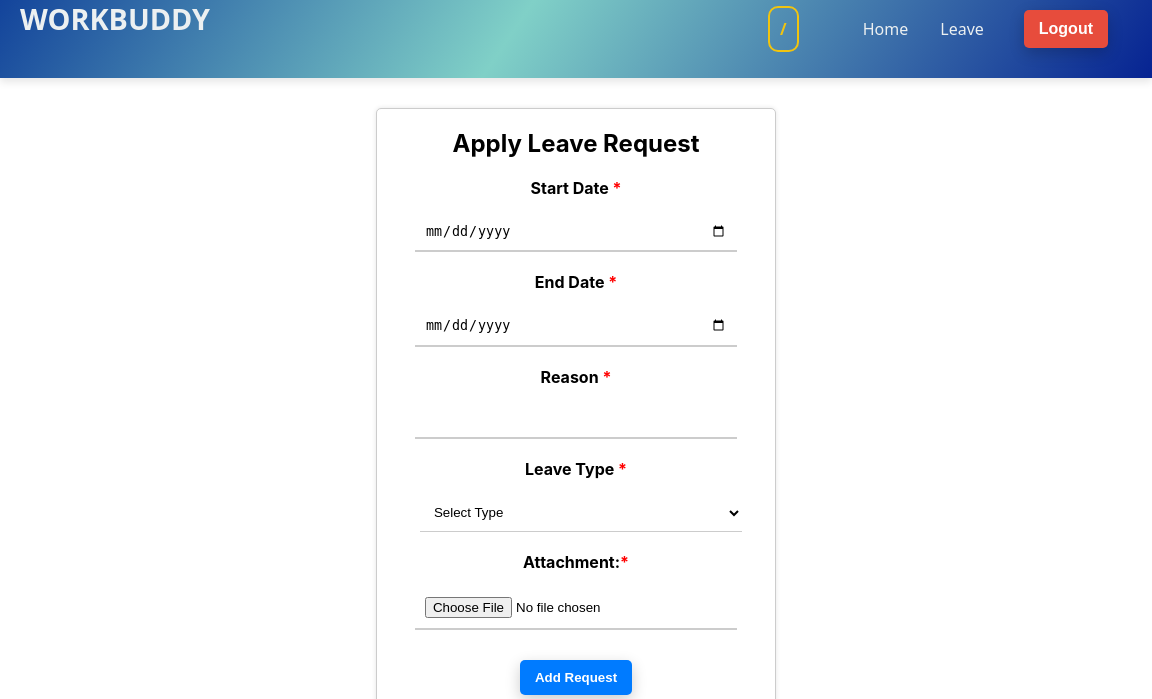
Test: LeaveForm Component › frontend_leave_form_component_displays_error_when_submitting_with_empty_title
The width and height of the screenshot is (1152, 699).
Click the button "Add Request": x=576, y=677 [520,660,632,695]
(page scrolled)
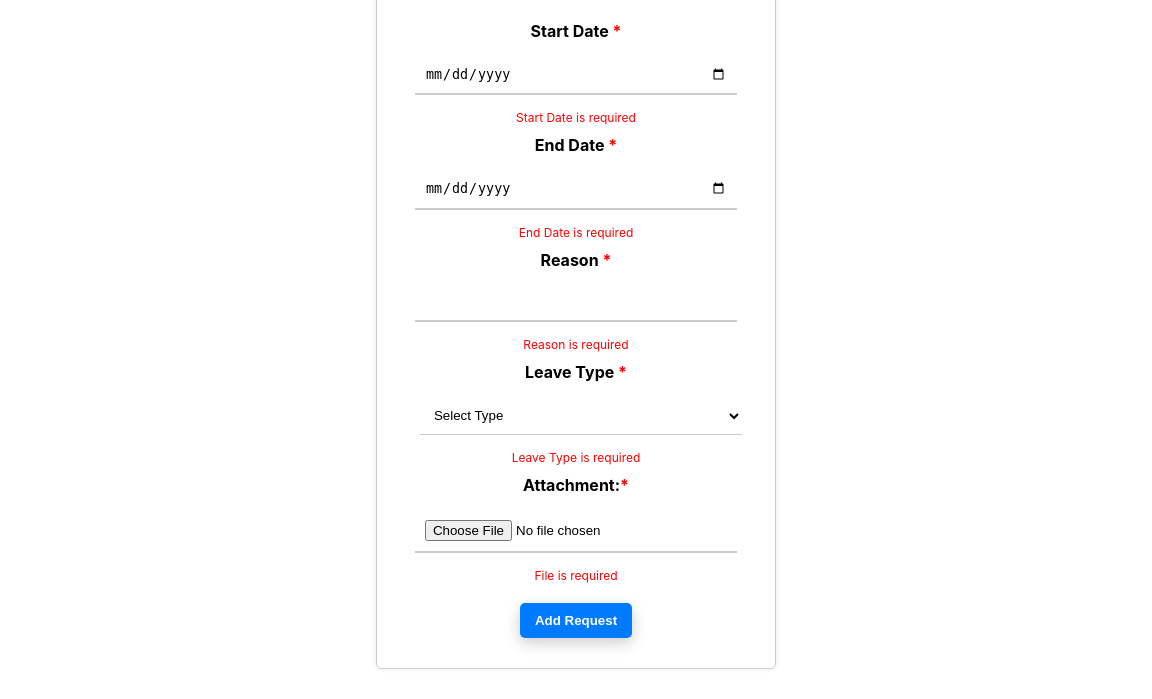
Now the text "Start Date is required" is shown, box [516,110,636,125]
Now the text "End Date is required" is shown, box [519,225,633,240]
Now the text "Reason is required" is shown, box [523,337,629,352]
